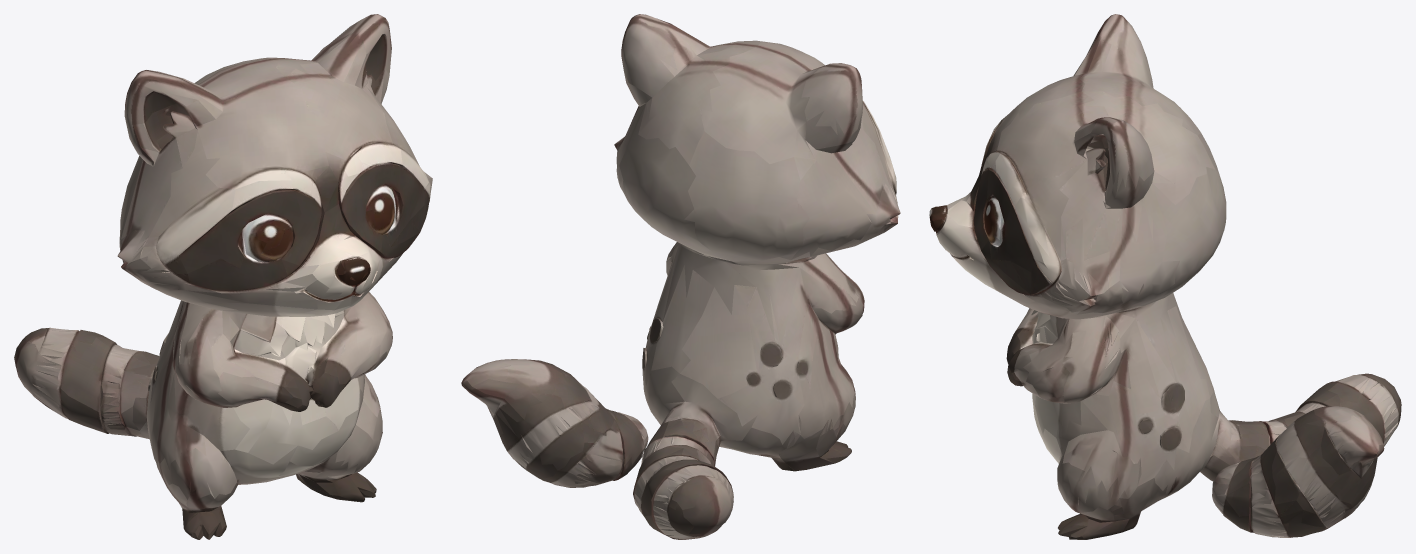
File: pet_gizmo.glb
3 renders of one model, left to right at view 1: azimuth 30°, elevation 25°; view 2: azimuth 150°, elevation 25°; view 3: azimuth 270°, elevation 25°, orthographic. The views are drawn at different scales.
Size of the model in its own units: 1.46 by 1.9 by 1.89.
1 material, 1 textured.
